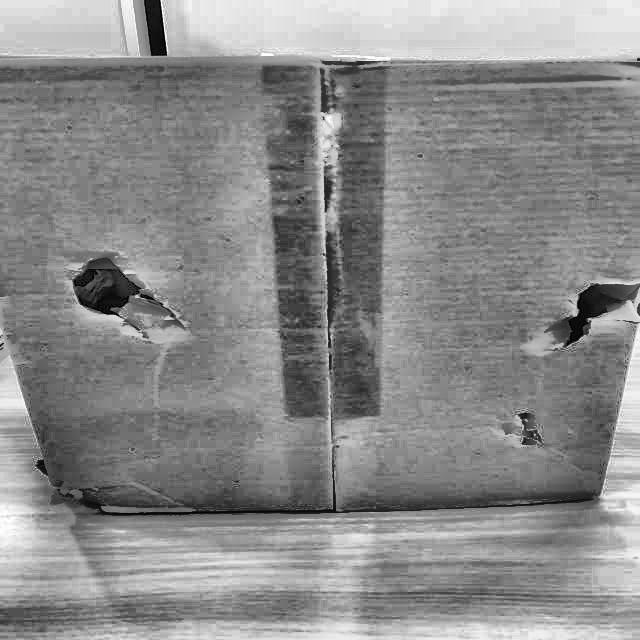box: (0, 47, 639, 527)
hole: (66, 253, 186, 345), (526, 272, 636, 354), (53, 476, 127, 528), (513, 408, 545, 452)
